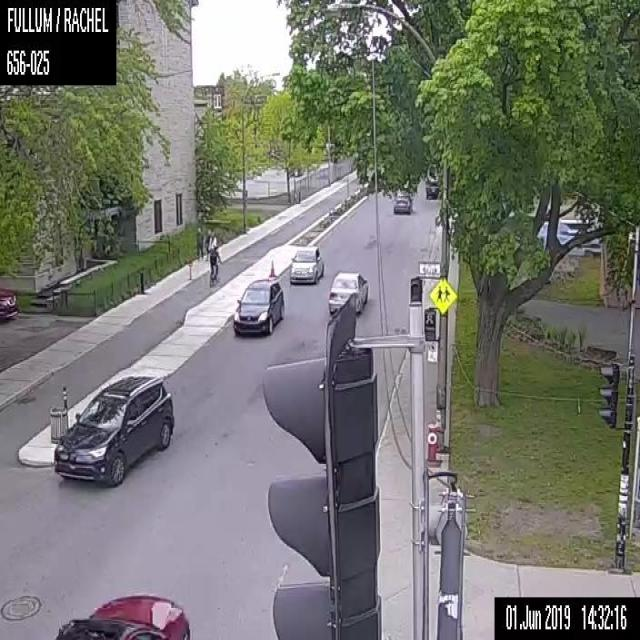construction: (268, 259, 275, 276)
cyclist: (208, 244, 223, 286)
pedestrian: (195, 226, 203, 260), (203, 228, 211, 260), (208, 231, 216, 250)
vehicle: (53, 376, 174, 484), (55, 593, 190, 639), (232, 278, 284, 335), (328, 271, 368, 314), (289, 245, 323, 283), (0, 289, 17, 319), (392, 192, 413, 212), (425, 178, 439, 198)
